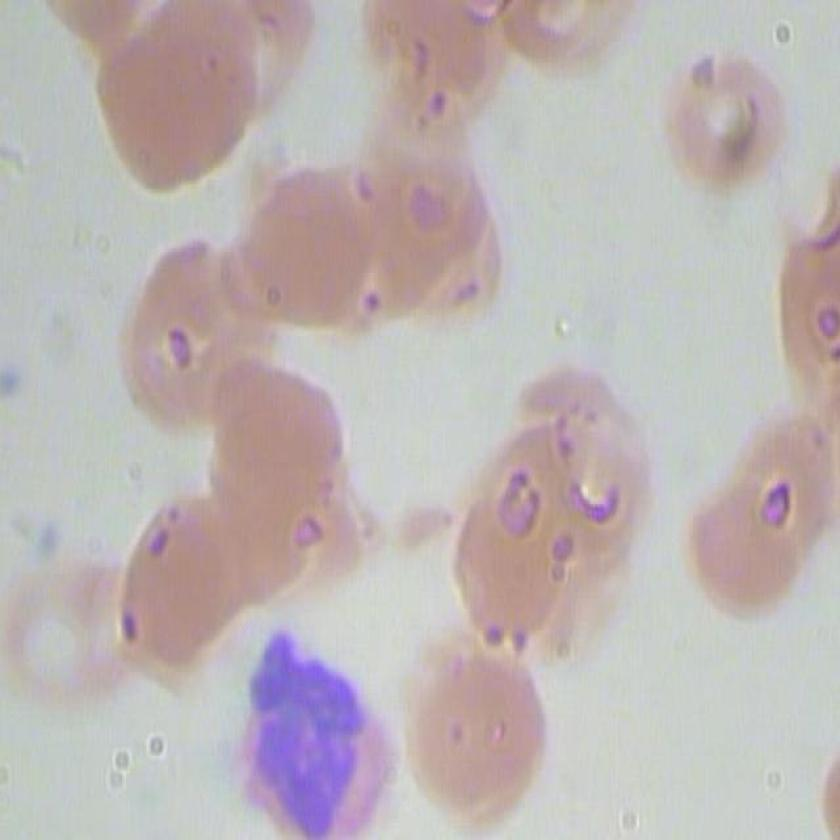neutrophil: (238, 621, 408, 837)
